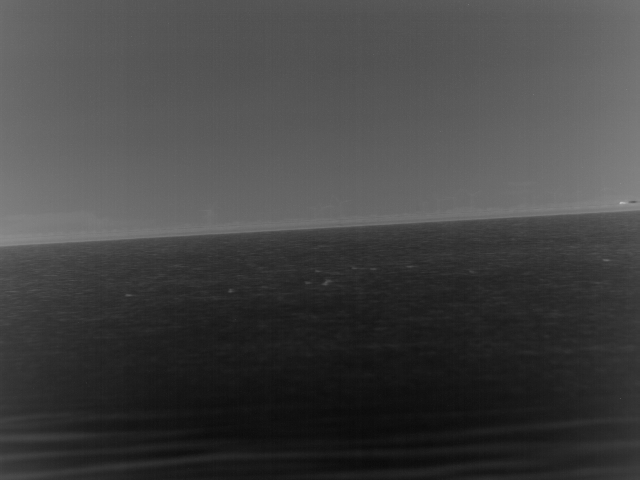dim target: (322, 279, 332, 287), (124, 292, 134, 298), (303, 280, 313, 286), (466, 268, 476, 274), (227, 287, 235, 294), (405, 264, 415, 269), (602, 257, 611, 262), (351, 265, 359, 270), (369, 266, 377, 271)
